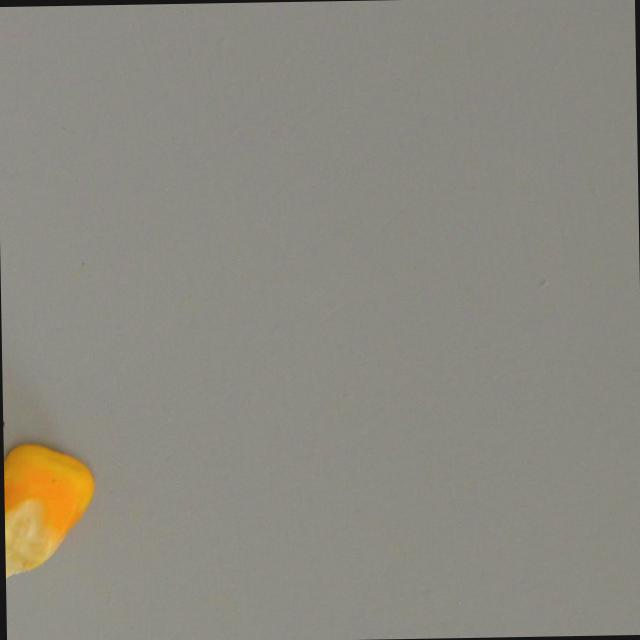entero: (2, 440, 96, 584)
